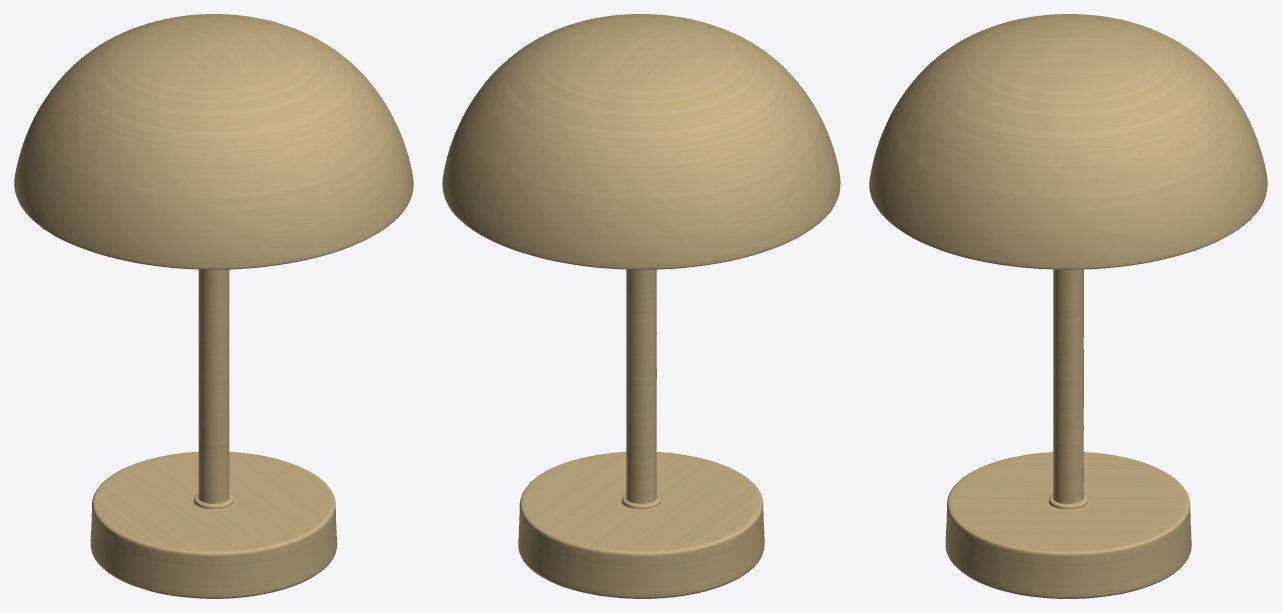
Rendered from lamp.glb.
3 views of the same model, side by side, from view 1: azimuth 30°, elevation 25°; view 2: azimuth 150°, elevation 25°; view 3: azimuth 270°, elevation 25° (orthographic).
Visible parts, largest first — view 1: tripo_node_78f1ac23-4524-4043-8bfb-d6bcad0a56e8; view 2: tripo_node_78f1ac23-4524-4043-8bfb-d6bcad0a56e8; view 3: tripo_node_78f1ac23-4524-4043-8bfb-d6bcad0a56e8.
Boxes of the visible parts, left/top/right/bottom form: tripo_node_78f1ac23-4524-4043-8bfb-d6bcad0a56e8: left=14, top=14, right=413, bottom=598; tripo_node_78f1ac23-4524-4043-8bfb-d6bcad0a56e8: left=442, top=14, right=840, bottom=598; tripo_node_78f1ac23-4524-4043-8bfb-d6bcad0a56e8: left=869, top=14, right=1267, bottom=598.
Bounding box in the file's own units: 0.2964 × 0.42 × 0.2962.
Materials: 1 (1 with a texture image).
